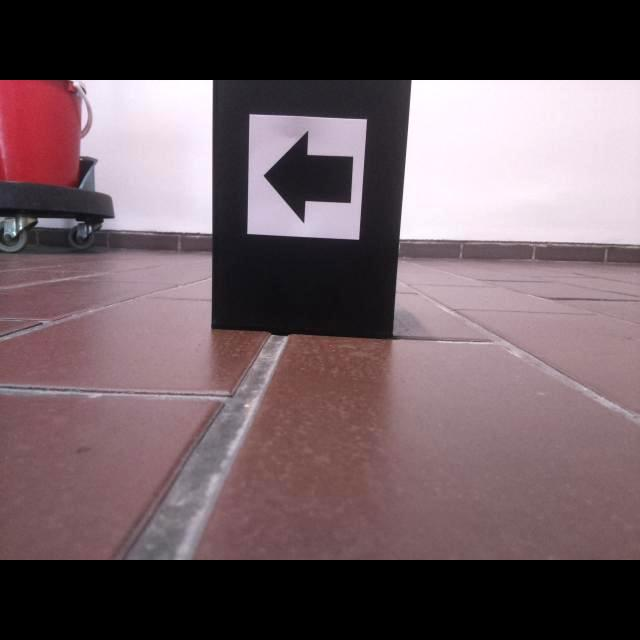LEFT: (262, 129, 354, 224)
